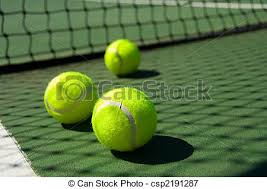tennis_ball: (91, 87, 158, 152), (43, 71, 100, 125), (103, 38, 140, 78)
